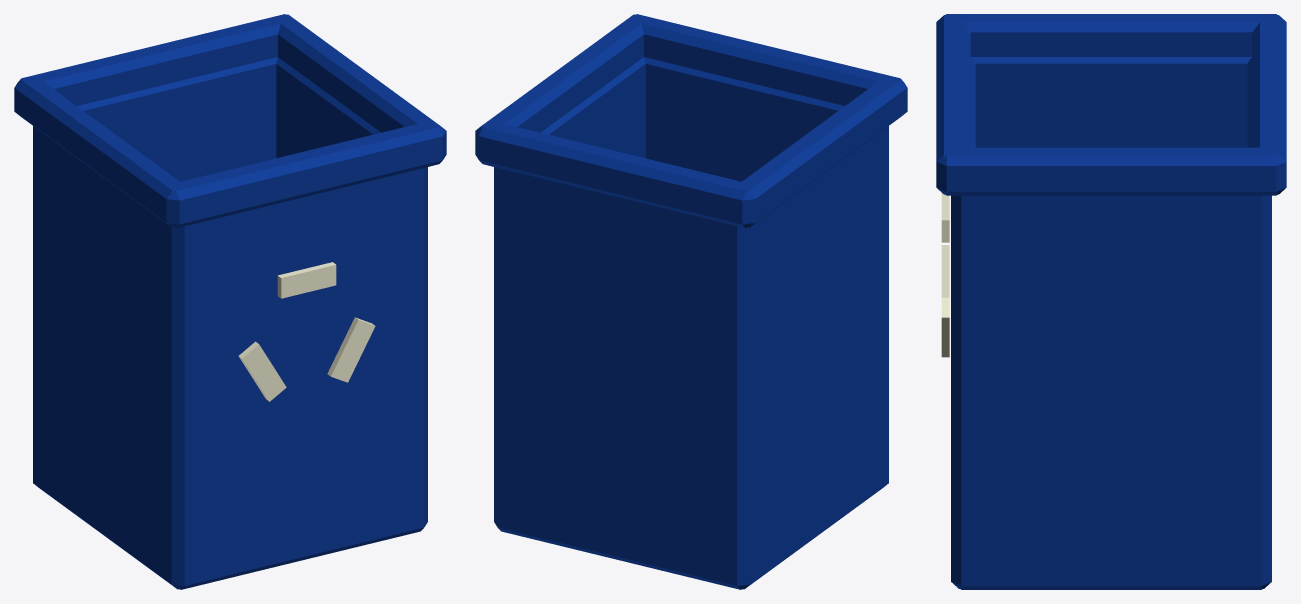
The model's file is RecycleBin.fbx.
3 renders of one model, left to right at view 1: azimuth 30°, elevation 25°; view 2: azimuth 150°, elevation 25°; view 3: azimuth 270°, elevation 25°, orthographic. The views are drawn at different scales.
Parts seen in each view (by area): view 1: RecycleBin; view 2: RecycleBin; view 3: RecycleBin.
Boxes of the visible parts, bbox=[...] form: RecycleBin: bbox=[14, 14, 446, 589]; RecycleBin: bbox=[475, 14, 907, 589]; RecycleBin: bbox=[936, 14, 1286, 589].
Size of the model in its own units: 35.5 by 49.25 by 35.5.
1 material, 1 textured.
